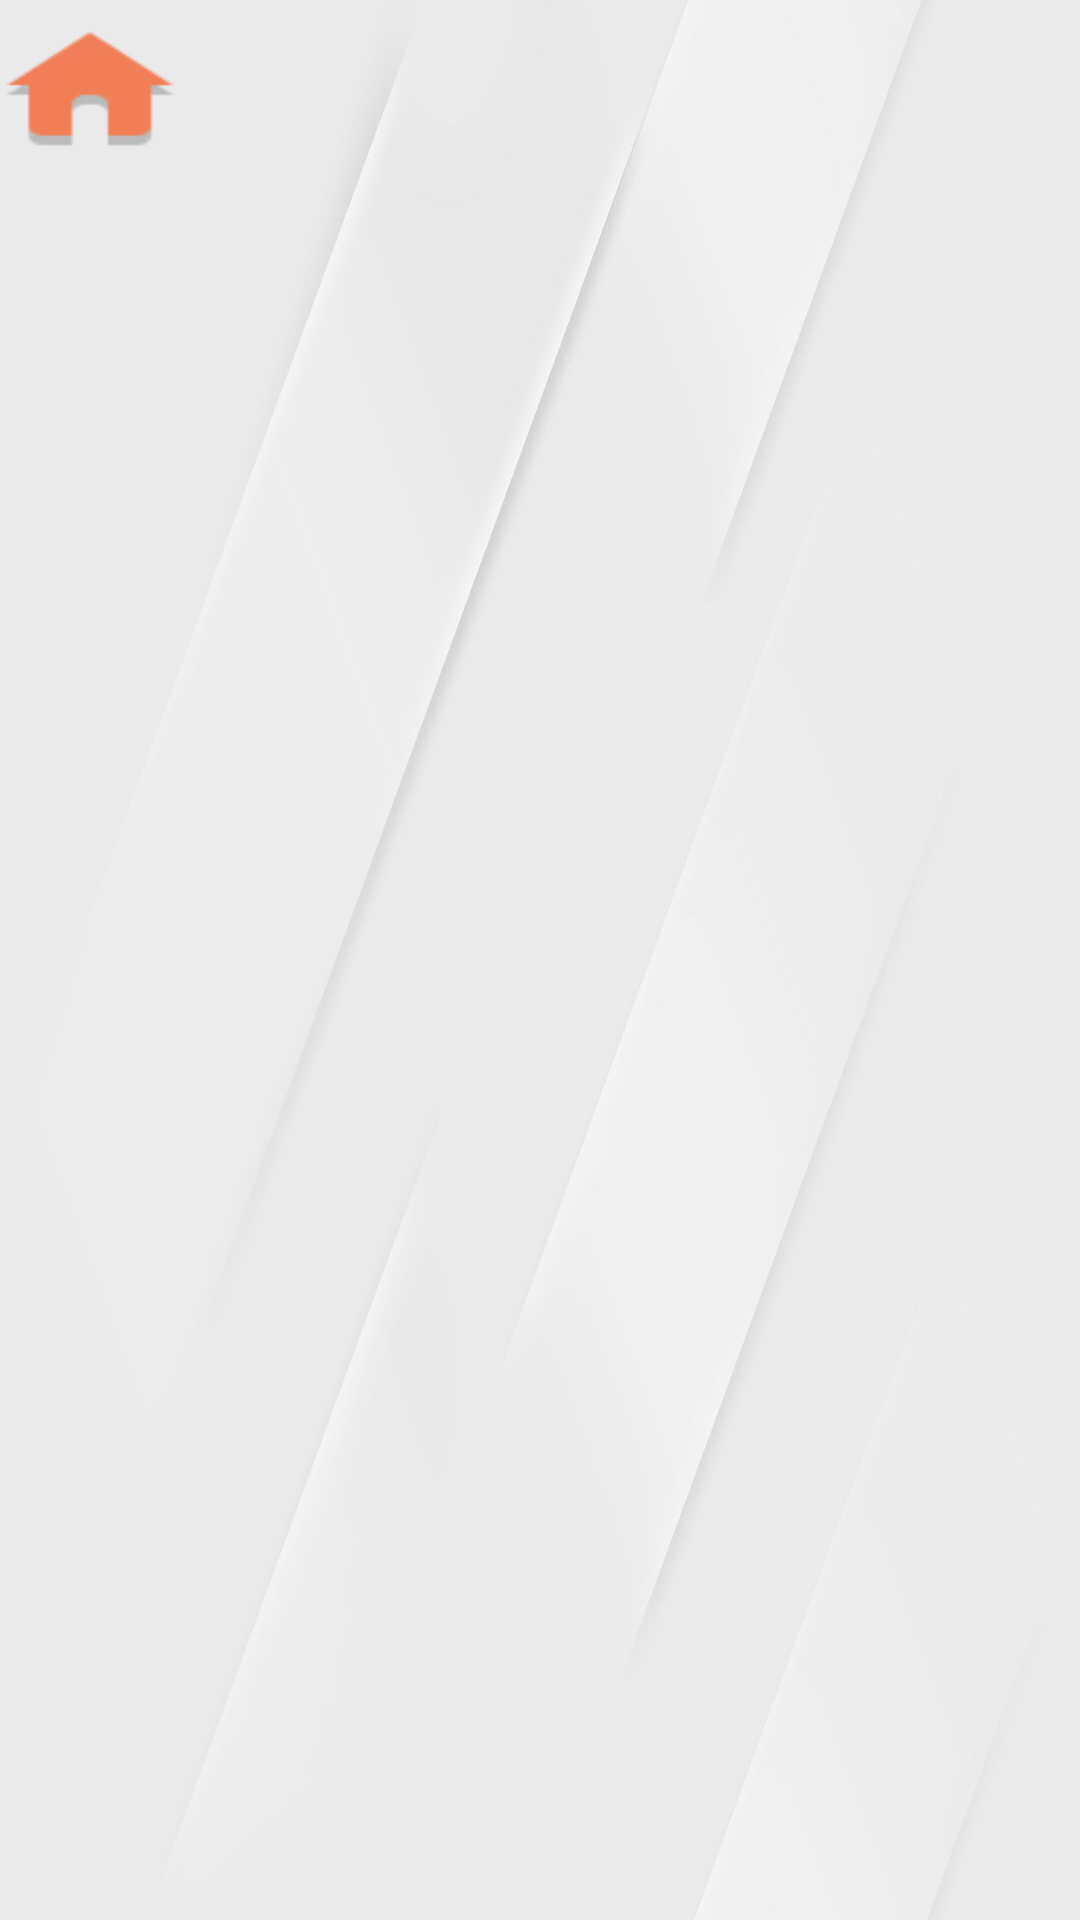

Icons on this 1080px x 1920px Android screen, each with its box as bbox(x1, y1, x2, y2):
home: bbox(7, 32, 173, 145)
